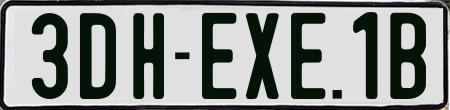1: (352, 11, 381, 101)
3: (32, 13, 71, 105)
B: (390, 10, 428, 101)
D: (77, 10, 117, 96)
E: (289, 13, 329, 105), (201, 10, 237, 101)
H: (133, 11, 170, 102)
X: (243, 12, 276, 103)
